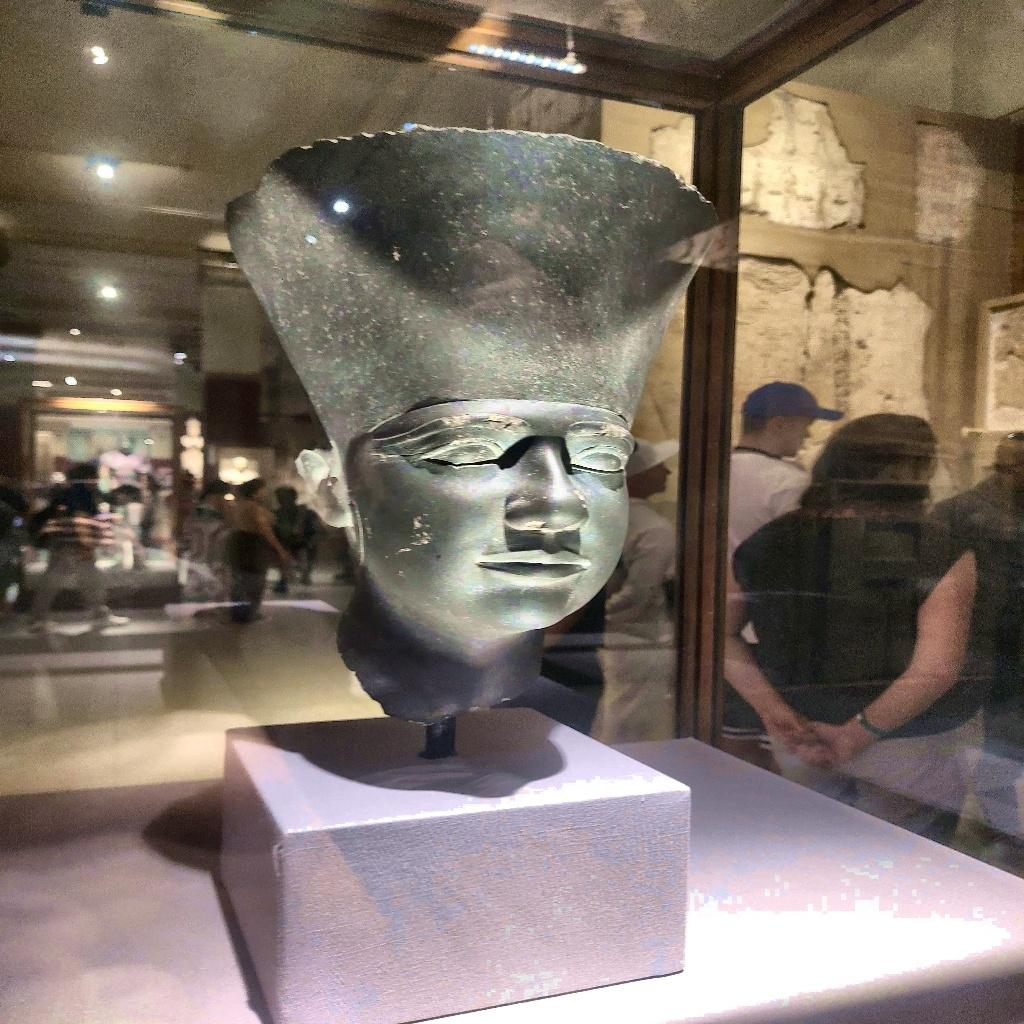Head of Userkaf: (216, 123, 718, 724)
